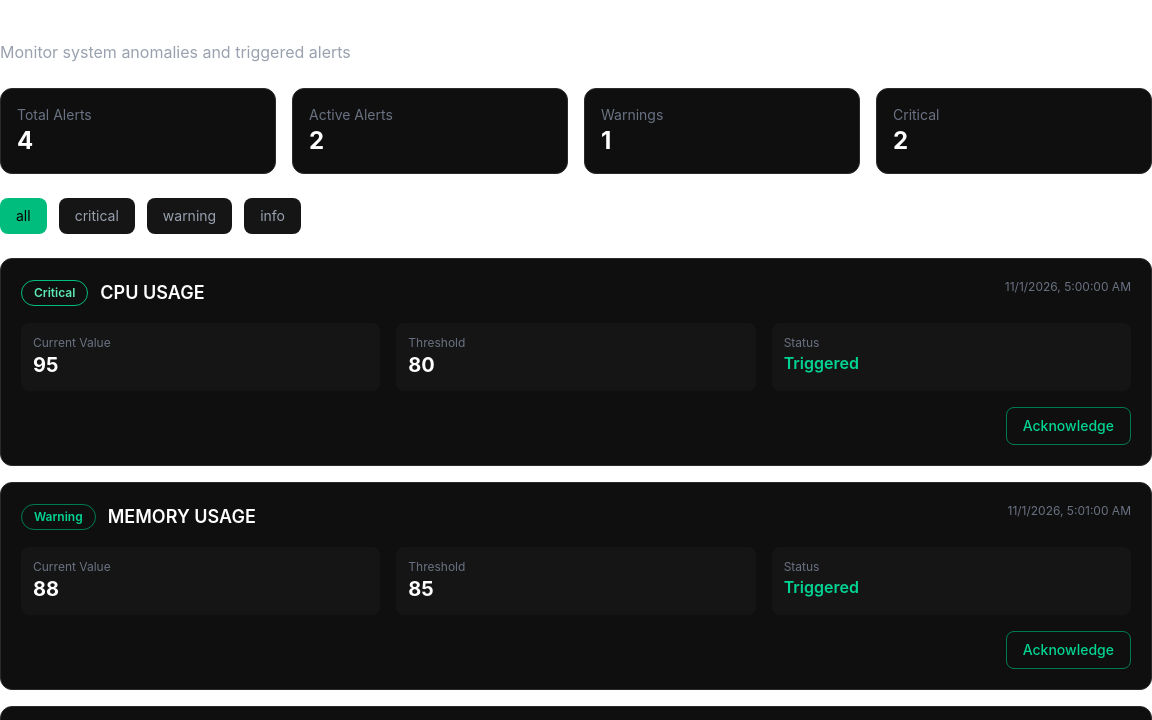
Test: AlertHistory page › filters alerts by warning severity
The image size is (1152, 720).
Click the button "warning".
click(189, 216)  # box left=147, top=198, right=232, bottom=234
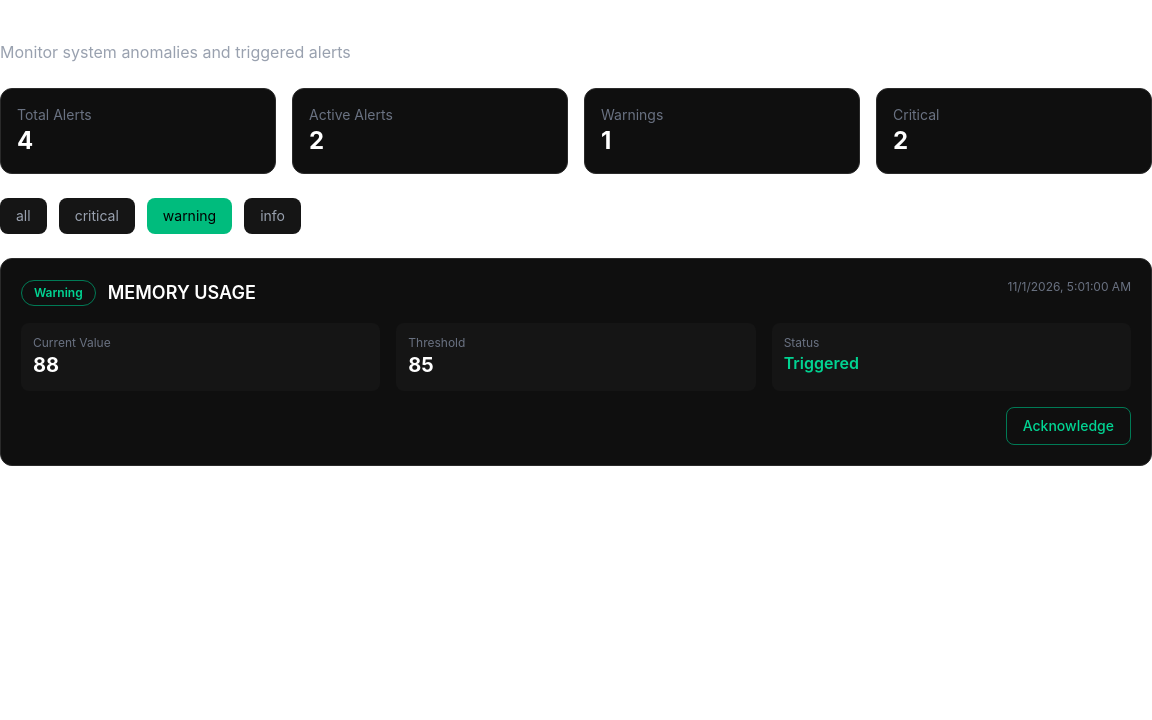
Expected: the heading "MEMORY USAGE" is shown, left=108, top=279, right=256, bottom=307
Now the heading "CPU USAGE" is gone
